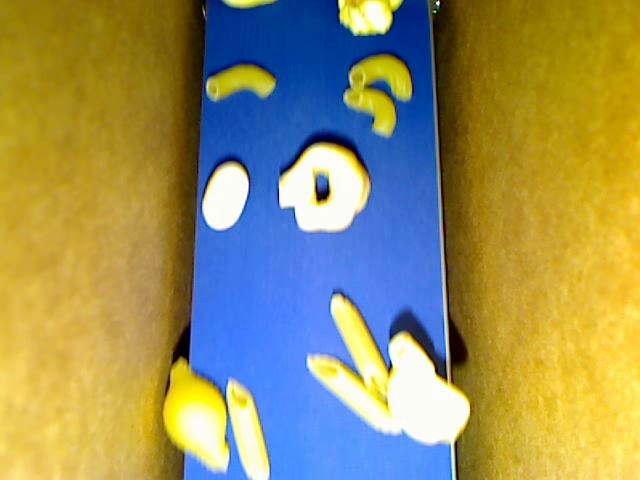elbow: (348, 54, 413, 101), (342, 87, 396, 138), (206, 64, 275, 101)
penne: (306, 353, 403, 436), (330, 292, 388, 400), (225, 376, 269, 479)
shell: (163, 357, 230, 475)
tortellini: (277, 141, 371, 232)
